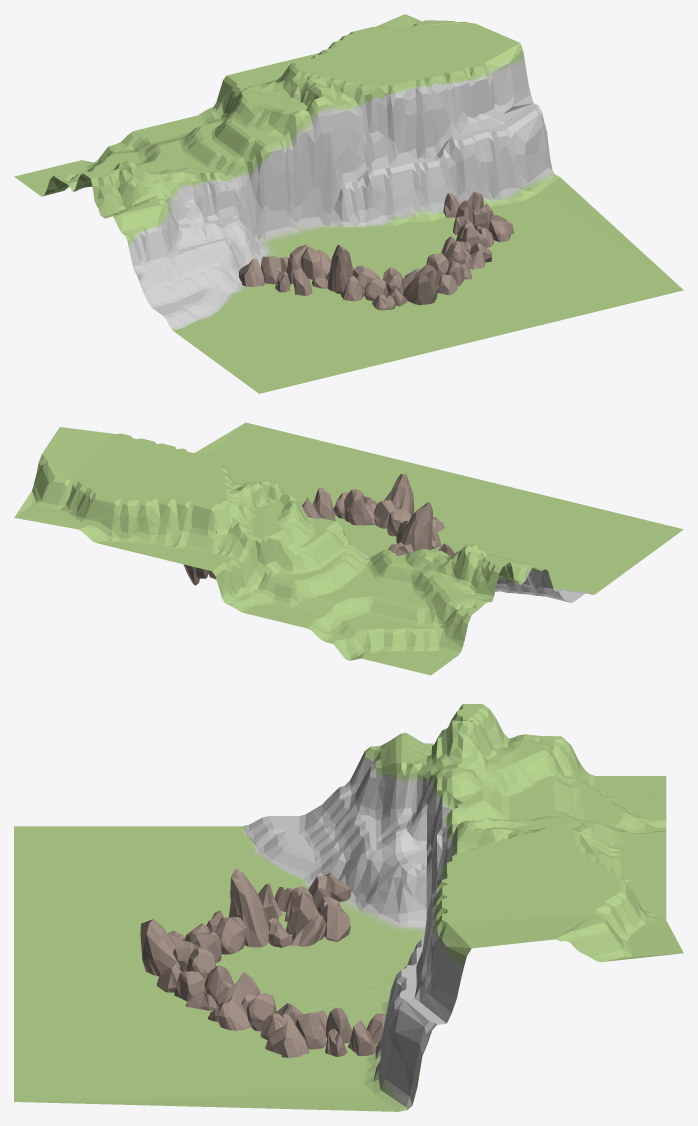
The model's file is TreeEnvironment.fbx.
3 views of the same model, one above another, from view 1: azimuth 30°, elevation 25°; view 2: azimuth 150°, elevation 25°; view 3: azimuth 270°, elevation 25° (orthographic). The views are drawn at different scales.
Parts seen in each view (by area): view 1: Rocks_shore; view 2: Rocks_shore; view 3: Rocks_shore.
Boxes of the visible parts, left/top/right/bottom form: Rocks_shore: left=14, top=14, right=683, bottom=393; Rocks_shore: left=14, top=422, right=683, bottom=675; Rocks_shore: left=14, top=704, right=683, bottom=1111.
Bounding box in the file's own units: 45371 × 15860 × 44434.
